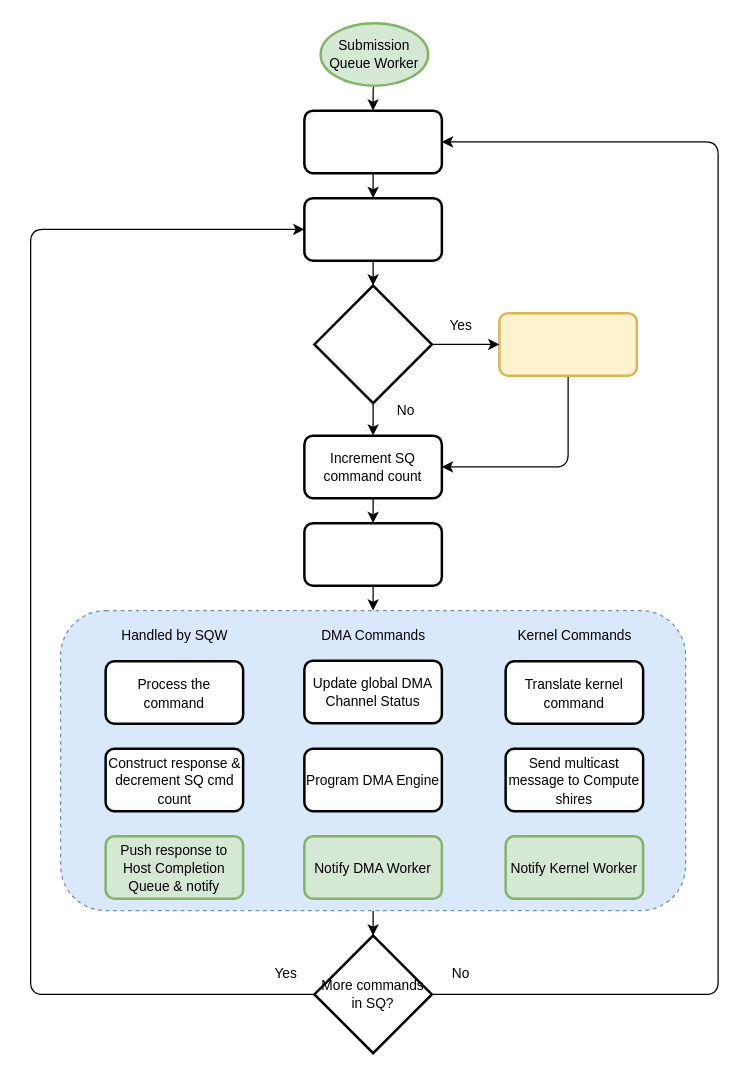
Some shapes in this 750 by 1075 pixel diagram are drawn without their labels. The box of each missing label's shape, as (x1, y1, x2, y2) in pixels:
Barrier Flag set?: (312, 284, 432, 404)
Parse the command popped: (302, 521, 442, 586)
Pop Command from Submission Queue: (302, 196, 442, 261)
Wait for FCC notification from Dispatcher: (302, 109, 442, 174)
Wait until all commands in SQ are processed: (498, 311, 638, 376)
